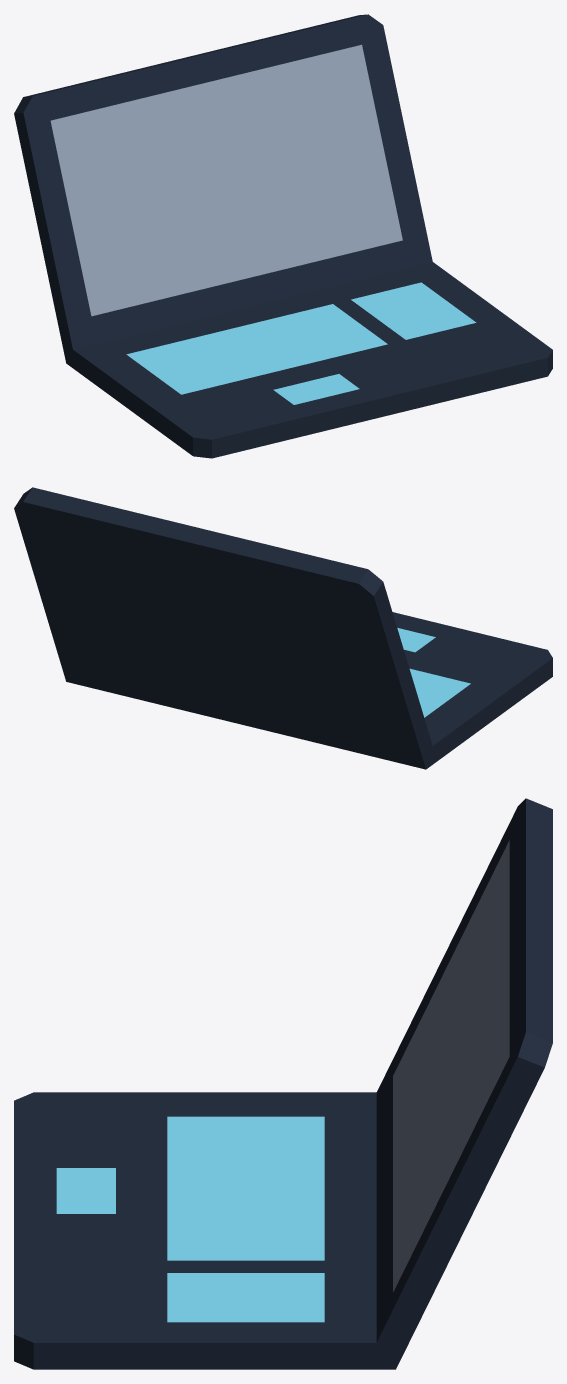
File: laptop.glb
3 renders of one model, top to bottom at view 1: azimuth 30°, elevation 25°; view 2: azimuth 150°, elevation 25°; view 3: azimuth 270°, elevation 25°, orthographic. The views are drawn at different scales.
Visible parts, largest first — view 1: laptop(Clone); view 2: laptop(Clone); view 3: laptop(Clone).
Boxes of the visible parts, bbox=[...] form: laptop(Clone): bbox=[14, 14, 552, 458]; laptop(Clone): bbox=[14, 487, 552, 769]; laptop(Clone): bbox=[14, 798, 552, 1369].
Bounding box in the file's own units: 0.34 × 0.2084 × 0.3092.
